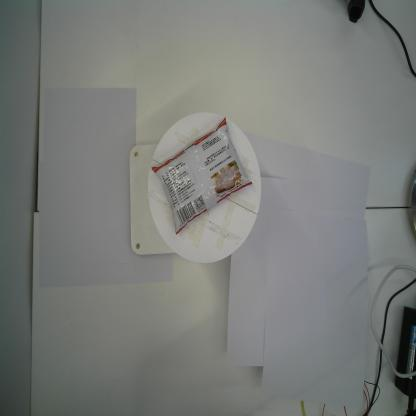Seasoner: (152, 117, 252, 235)
